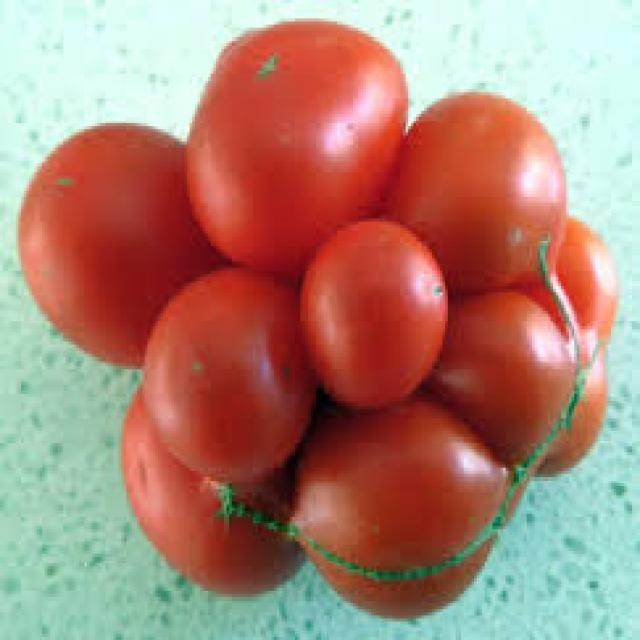Fresh_tomato: (203, 19, 411, 248), (25, 121, 192, 371), (341, 427, 510, 617), (435, 73, 585, 284), (168, 278, 328, 457), (460, 296, 600, 471)
